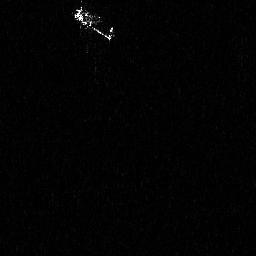ship: (71, 1, 115, 43)
